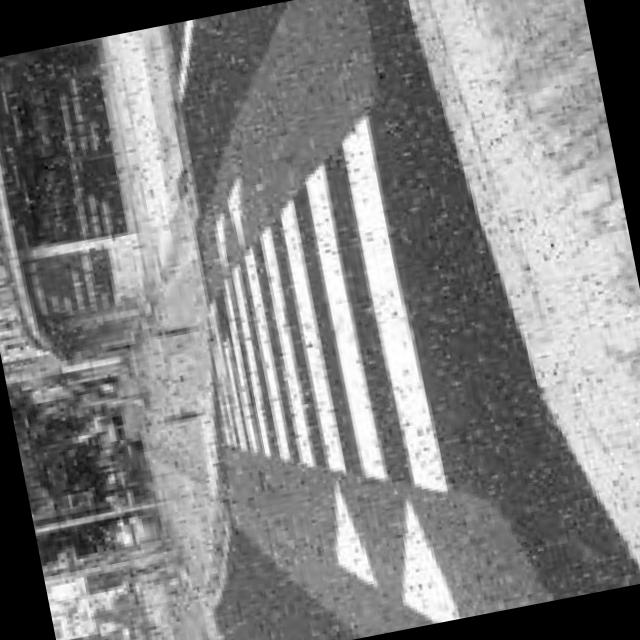zebra: (154, 107, 462, 534)
